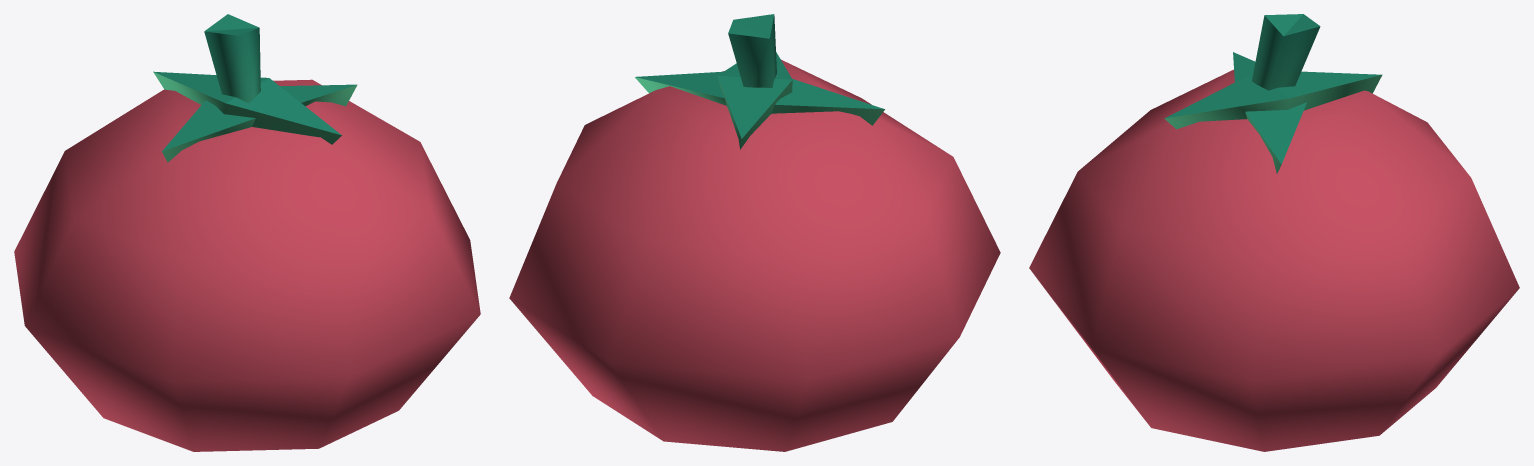
The model's file is Tomato.glb.
3 views of the same model, side by side, from view 1: azimuth 30°, elevation 25°; view 2: azimuth 150°, elevation 25°; view 3: azimuth 270°, elevation 25° (orthographic). The views are drawn at different scales.
Parts seen in each view (by area): view 1: Tomato; view 2: Tomato; view 3: Tomato.
Part boxes in pixels (x1,y1,x2,y2): Tomato: [14, 14, 480, 451]; Tomato: [509, 14, 1000, 451]; Tomato: [1029, 14, 1519, 451].
Size of the model in its own units: 0.5557 by 0.4859 by 0.5557.
Materials: 1 (1 with a texture image).
